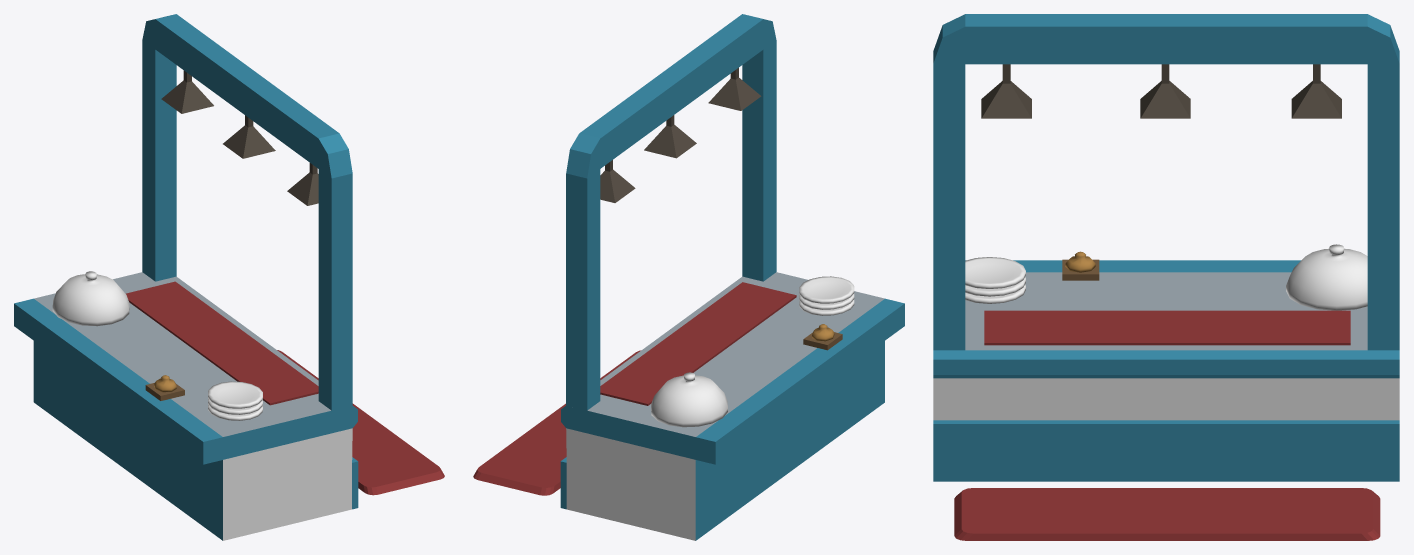
File: 3D_workstation_assembly.fbx
3 views of the same model, side by side, from view 1: azimuth 30°, elevation 25°; view 2: azimuth 150°, elevation 25°; view 3: azimuth 270°, elevation 25° (orthographic). The views are drawn at different scales.
Parts seen in each view (by area): view 1: 3D_workstation_Dish-pass_table, 3D_workstation_Dish-pass_table.001; view 2: 3D_workstation_Dish-pass_table, 3D_workstation_Dish-pass_table.001; view 3: 3D_workstation_Dish-pass_table, 3D_workstation_Dish-pass_table.001.
Boxes of the visible parts, left/top/right/bottom form: 3D_workstation_Dish-pass_table: left=14, top=14, right=358, bottom=540; 3D_workstation_Dish-pass_table.001: left=277, top=350, right=444, bottom=495; 3D_workstation_Dish-pass_table: left=560, top=14, right=904, bottom=540; 3D_workstation_Dish-pass_table.001: left=473, top=350, right=640, bottom=495; 3D_workstation_Dish-pass_table: left=933, top=14, right=1399, bottom=481; 3D_workstation_Dish-pass_table.001: left=954, top=488, right=1380, bottom=540.
Size of the model in its own units: 1.5 by 2.07 by 1.94.
